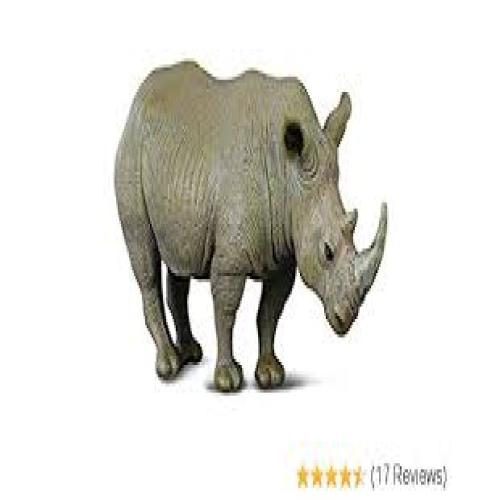rhino-endangered: (114, 61, 389, 391)
